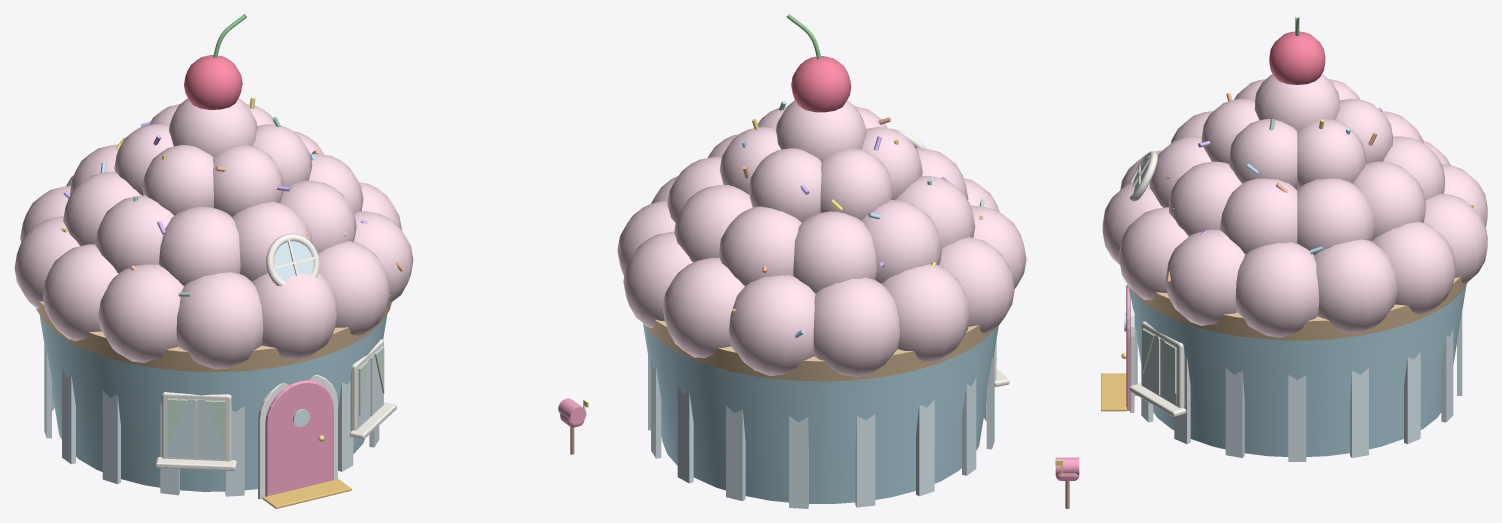
The model's file is building_sweets_L06.glb.
The picture shows the model from 3 angles, left to right: view 1: azimuth 30°, elevation 25°; view 2: azimuth 150°, elevation 25°; view 3: azimuth 270°, elevation 25°; orthographic projection. The views are drawn at different scales.
Parts seen in each view (by area): view 1: Body, sweets_L6; view 2: Body; view 3: Body, sweets_L6.
Boxes of the visible parts, x1,y1,x2,y2 form: Body: [14, 14, 413, 508]; sweets_L6: [558, 398, 588, 454]; Body: [617, 14, 1026, 508]; Body: [1101, 17, 1487, 461]; sweets_L6: [1055, 457, 1079, 508].
Bounding box in the file's own units: 18.28 × 16.73 × 16.56.
